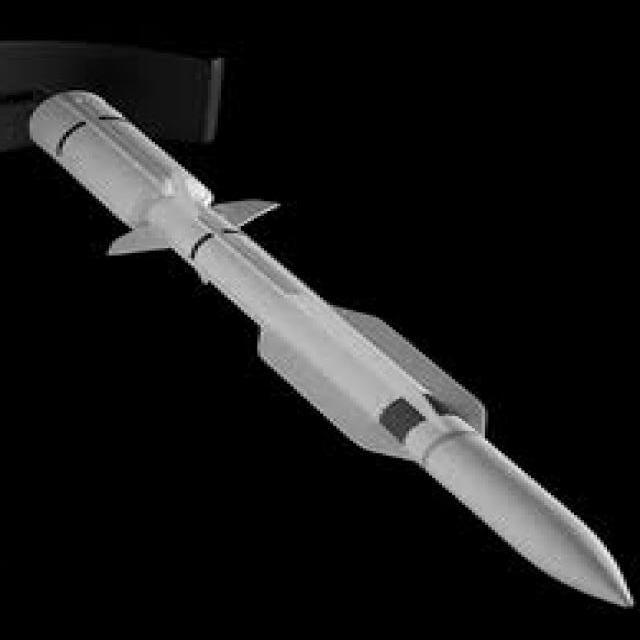missile: (24, 66, 640, 615)
